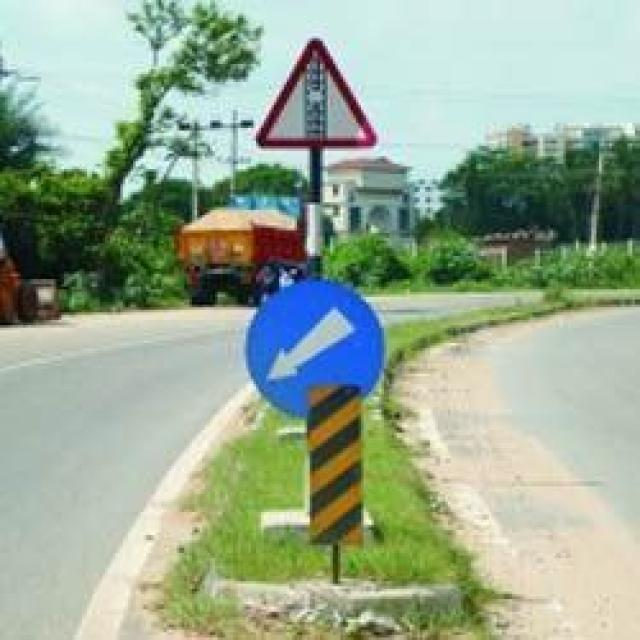compulsary keep left: (249, 281, 385, 416)
